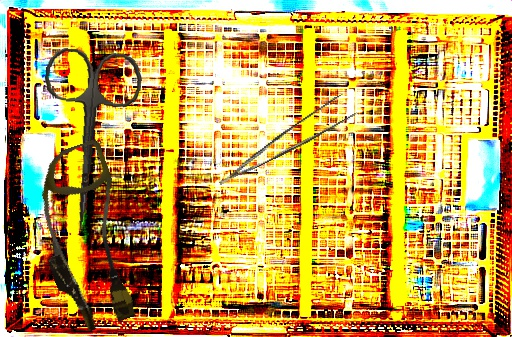Cannula: (15, 138, 157, 337)
Iris Scissors: (29, 46, 146, 235)
Tissue Forceps: (208, 90, 361, 186)
